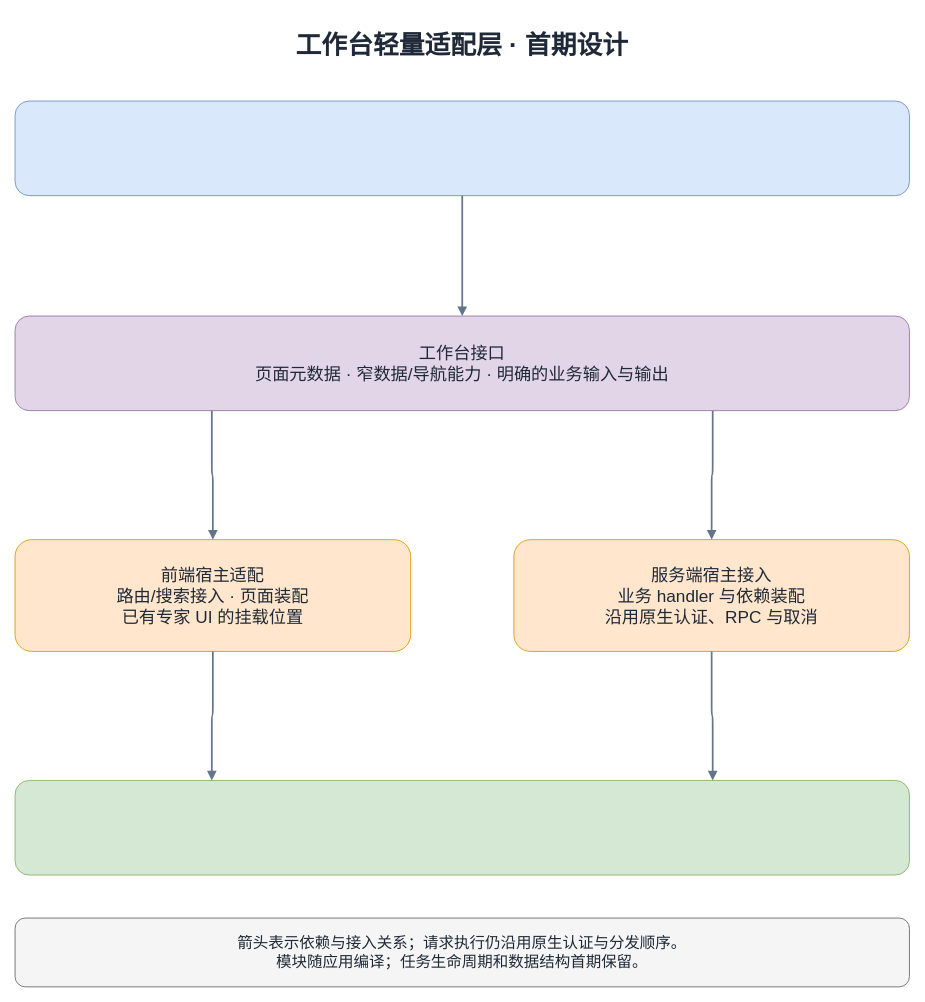
Image size: 925x1002. Some labels were removed from this diagram. Each missing label, with the box of its shape:
Synara 原生能力与已有深层接入 基础组件 / 任务 / Provider / Gateway / 事件投影 / 数据与进程: (14, 780, 909, 875)
功能模块：专家设置 / 全局 MCP / 本机发现与导入 页面、校验、草稿和配置规则由模块维护: (14, 100, 909, 196)
